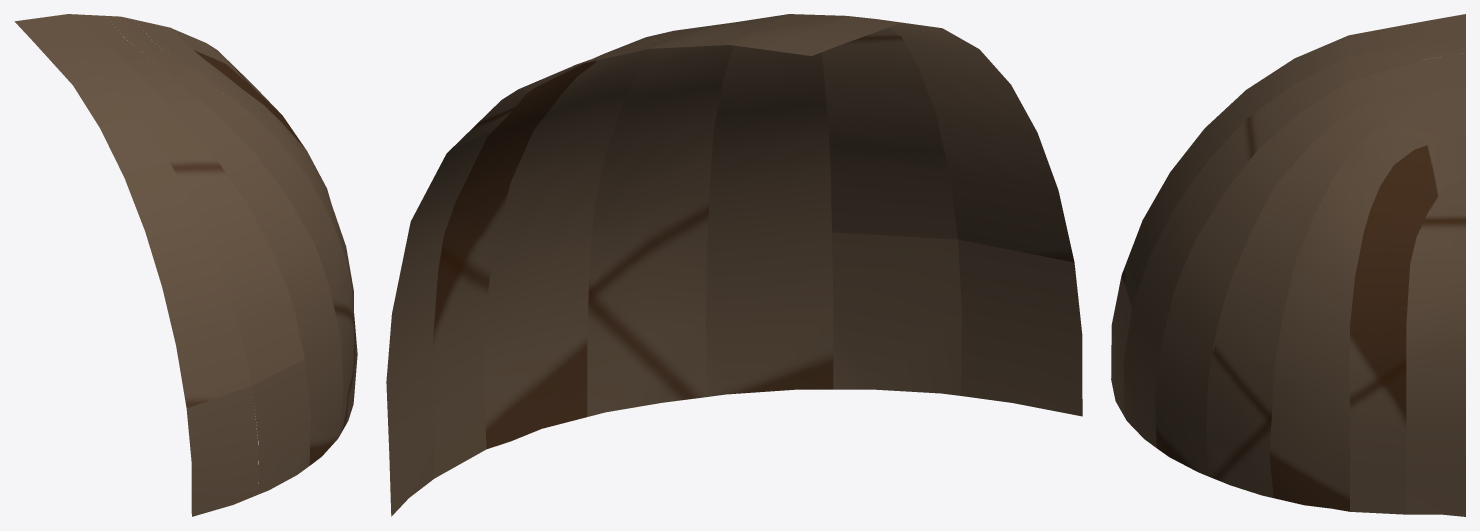
File: Back_right_helm.fbx
The picture shows the model from 3 angles, left to right: view 1: azimuth 30°, elevation 25°; view 2: azimuth 150°, elevation 25°; view 3: azimuth 270°, elevation 25°; orthographic projection. The views are drawn at different scales.
Parts seen in each view (by area): view 1: Back_right_helm_3_1, Back_right_helm_3_3, Back_right_helm_3_5, Back_right_helm_3_6, Back_right_helm_3_2, Back_right_helm_3_4, Back_right_helm_3_7, Back_right_helm_3_8; view 2: Back_right_helm_3_5, Back_right_helm_3_6, Back_right_helm_3_7, Back_right_helm_3_3, Back_right_helm_3_1, Back_right_helm_3_4, Back_right_helm_3_8, Back_right_helm_3_2, Front_right_helm_3_9; view 3: Back_right_helm_3_7, Back_right_helm_3_6, Back_right_helm_3_8, Back_right_helm_3_5, Front_right_helm_3_9, Back_right_helm_3_3, Back_right_helm_3_1, Back_right_helm_3_4, Back_right_helm_3_2.
Boxes of the visible parts, <box> form: Back_right_helm_3_1: <box>14,17,251,408</box>; Back_right_helm_3_3: <box>47,14,304,385</box>; Back_right_helm_3_5: <box>77,14,343,465</box>; Back_right_helm_3_6: <box>105,15,357,432</box>; Back_right_helm_3_2: <box>186,386,258,516</box>; Back_right_helm_3_4: <box>252,359,310,494</box>; Back_right_helm_3_7: <box>133,19,353,309</box>; Back_right_helm_3_8: <box>172,28,305,149</box>; Back_right_helm_3_5: <box>674,14,833,396</box>; Back_right_helm_3_6: <box>587,22,734,416</box>; Back_right_helm_3_7: <box>484,30,673,448</box>; Back_right_helm_3_3: <box>717,14,957,239</box>; Back_right_helm_3_1: <box>763,16,1074,262</box>; Back_right_helm_3_4: <box>832,232,961,395</box>; Back_right_helm_3_8: <box>432,60,597,477</box>; Back_right_helm_3_2: <box>958,239,1082,416</box>; Front_right_helm_3_9: <box>386,89,527,516</box>; Back_right_helm_3_7: <box>1269,99,1465,511</box>; Back_right_helm_3_6: <box>1206,74,1465,497</box>; Back_right_helm_3_8: <box>1350,135,1465,514</box>; Back_right_helm_3_5: <box>1155,52,1465,475</box>; Front_right_helm_3_9: <box>1406,176,1465,516</box>; Back_right_helm_3_3: <box>1132,33,1465,341</box>; Back_right_helm_3_1: <box>1121,14,1465,307</box>; Back_right_helm_3_4: <box>1123,308,1161,447</box>; Back_right_helm_3_2: <box>1111,275,1132,414</box>.
Size of the model in its own units: 9.16 by 11.59 by 10.1.
